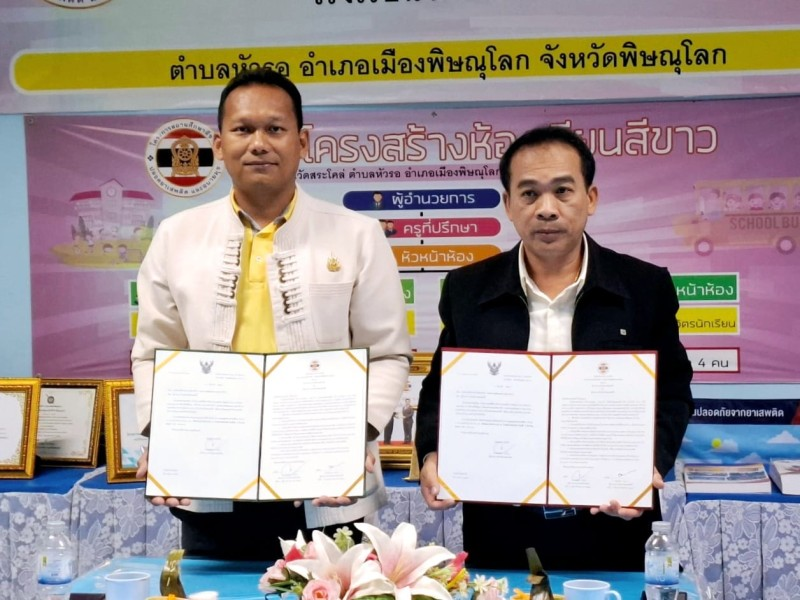text: (165, 35, 727, 84), (297, 117, 518, 166), (580, 110, 720, 161), (294, 162, 501, 183), (400, 217, 479, 237), (389, 190, 477, 207), (398, 246, 475, 265), (726, 212, 798, 231), (691, 406, 785, 418), (675, 280, 735, 298), (676, 315, 737, 331), (695, 354, 731, 370)
